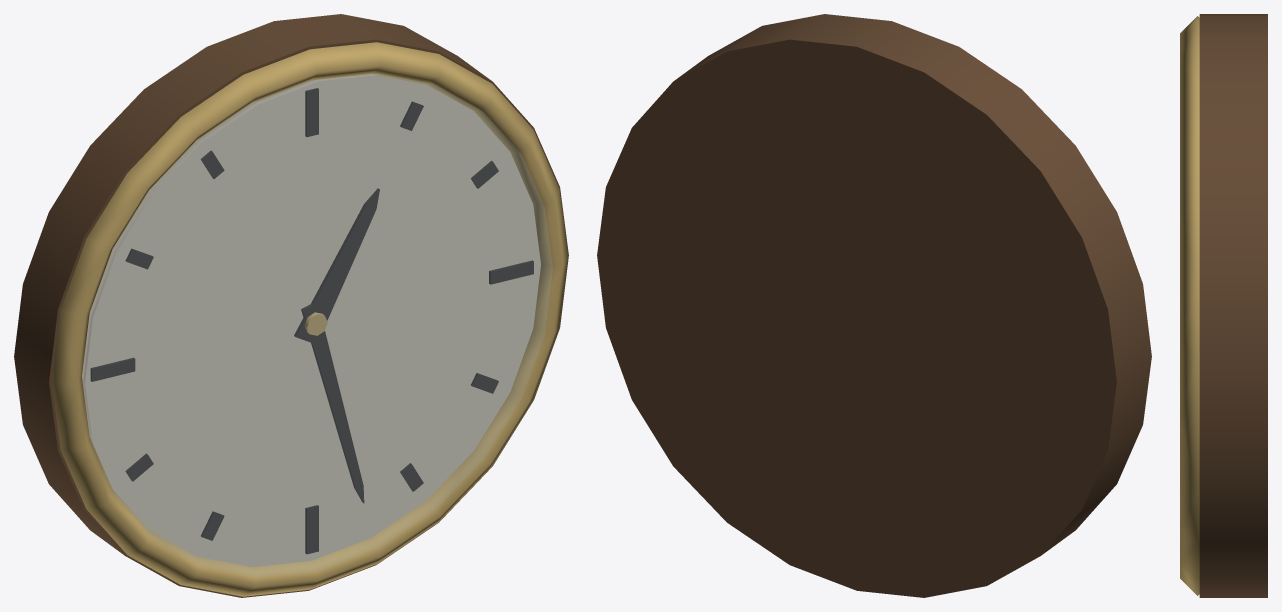
File: wall_clock.glb
3 renders of one model, left to right at view 1: azimuth 30°, elevation 25°; view 2: azimuth 150°, elevation 25°; view 3: azimuth 270°, elevation 25°, orthographic. The views are drawn at different scales.
Parts seen in each view (by area): view 1: glass__wall_clock__ns, paper__wall_clock__ns, brass__wall_clock__ns, dark_wood__wall_clock__solid, rubber__wall_clock__ns; view 2: dark_wood__wall_clock__solid; view 3: dark_wood__wall_clock__solid, brass__wall_clock__ns.
Boxes of the visible parts, <box> form: glass__wall_clock__ns: <box>83,73,552,576</box>; paper__wall_clock__ns: <box>82,74,540,567</box>; brass__wall_clock__ns: <box>52,42,568,596</box>; dark_wood__wall_clock__solid: <box>14,14,568,597</box>; rubber__wall_clock__ns: <box>90,88,533,554</box>; dark_wood__wall_clock__solid: <box>597,14,1151,597</box>; dark_wood__wall_clock__solid: <box>1199,14,1267,597</box>; brass__wall_clock__ns: <box>1180,16,1199,595</box>.
Bounding box in the file's own units: 0.6 × 0.6 × 0.09.
